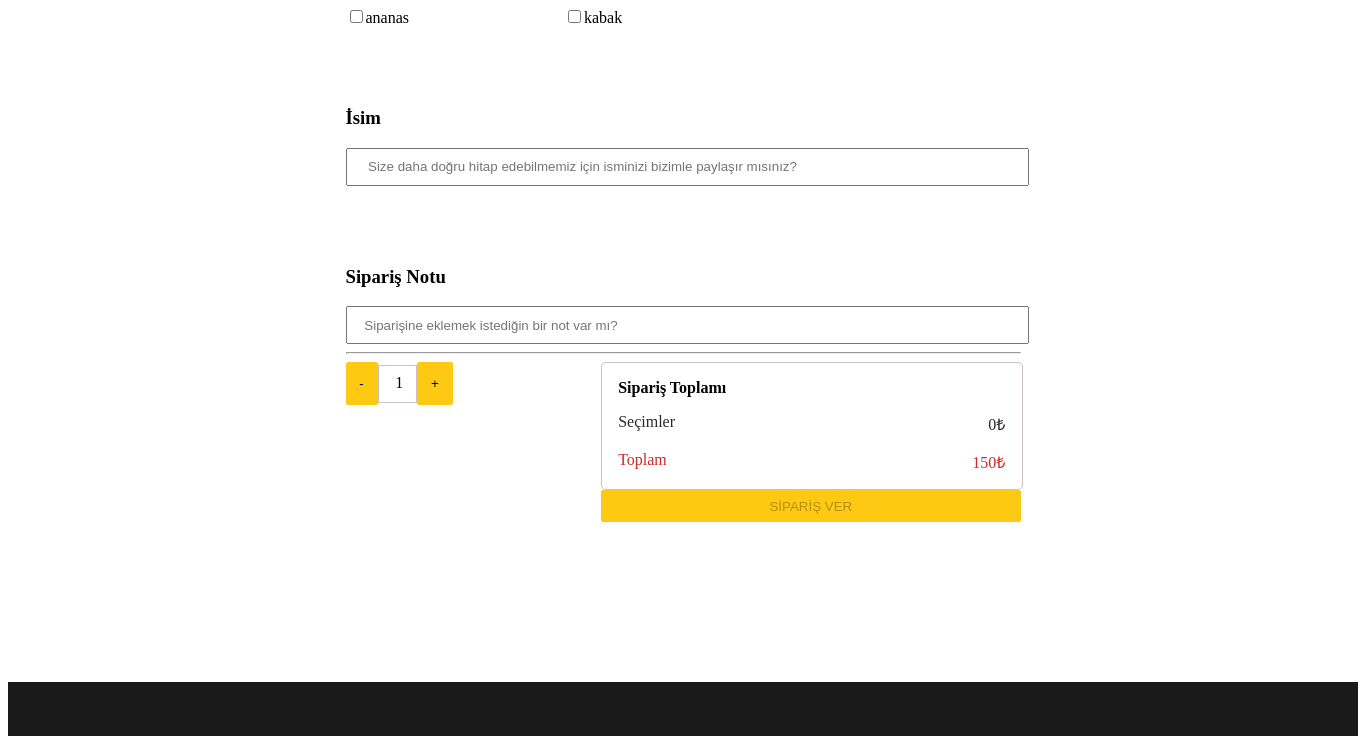
Scenario: Pizzatesti › Sayac ve hesaplama calisiyor mu ?
(page scrolled)
Click the button "+" at (435, 384), box [417, 362, 452, 405]
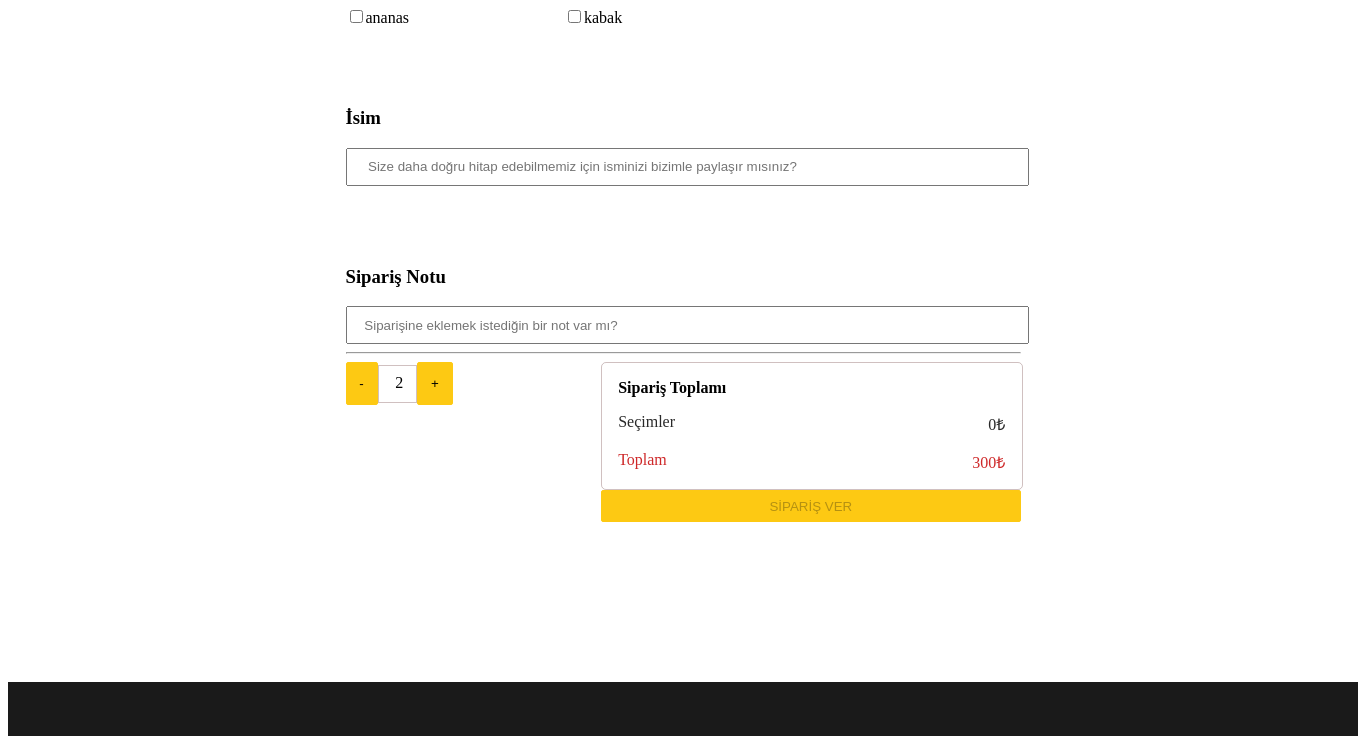
Expected: the text "2" is shown, [378, 365, 417, 403]
Expected: the text "300" is shown, [972, 454, 996, 471]
